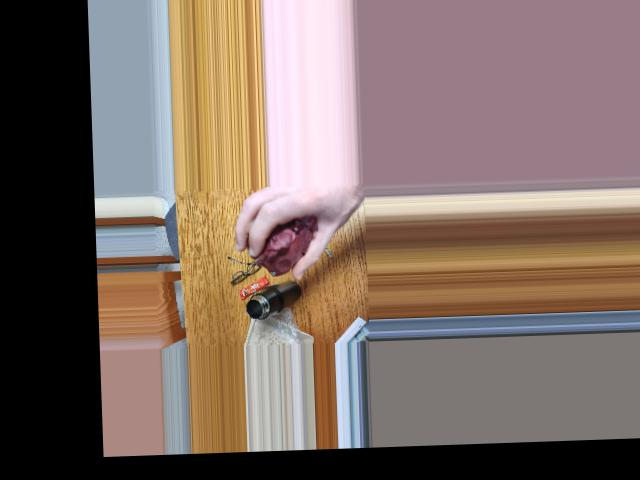onion: (245, 213, 313, 271)
